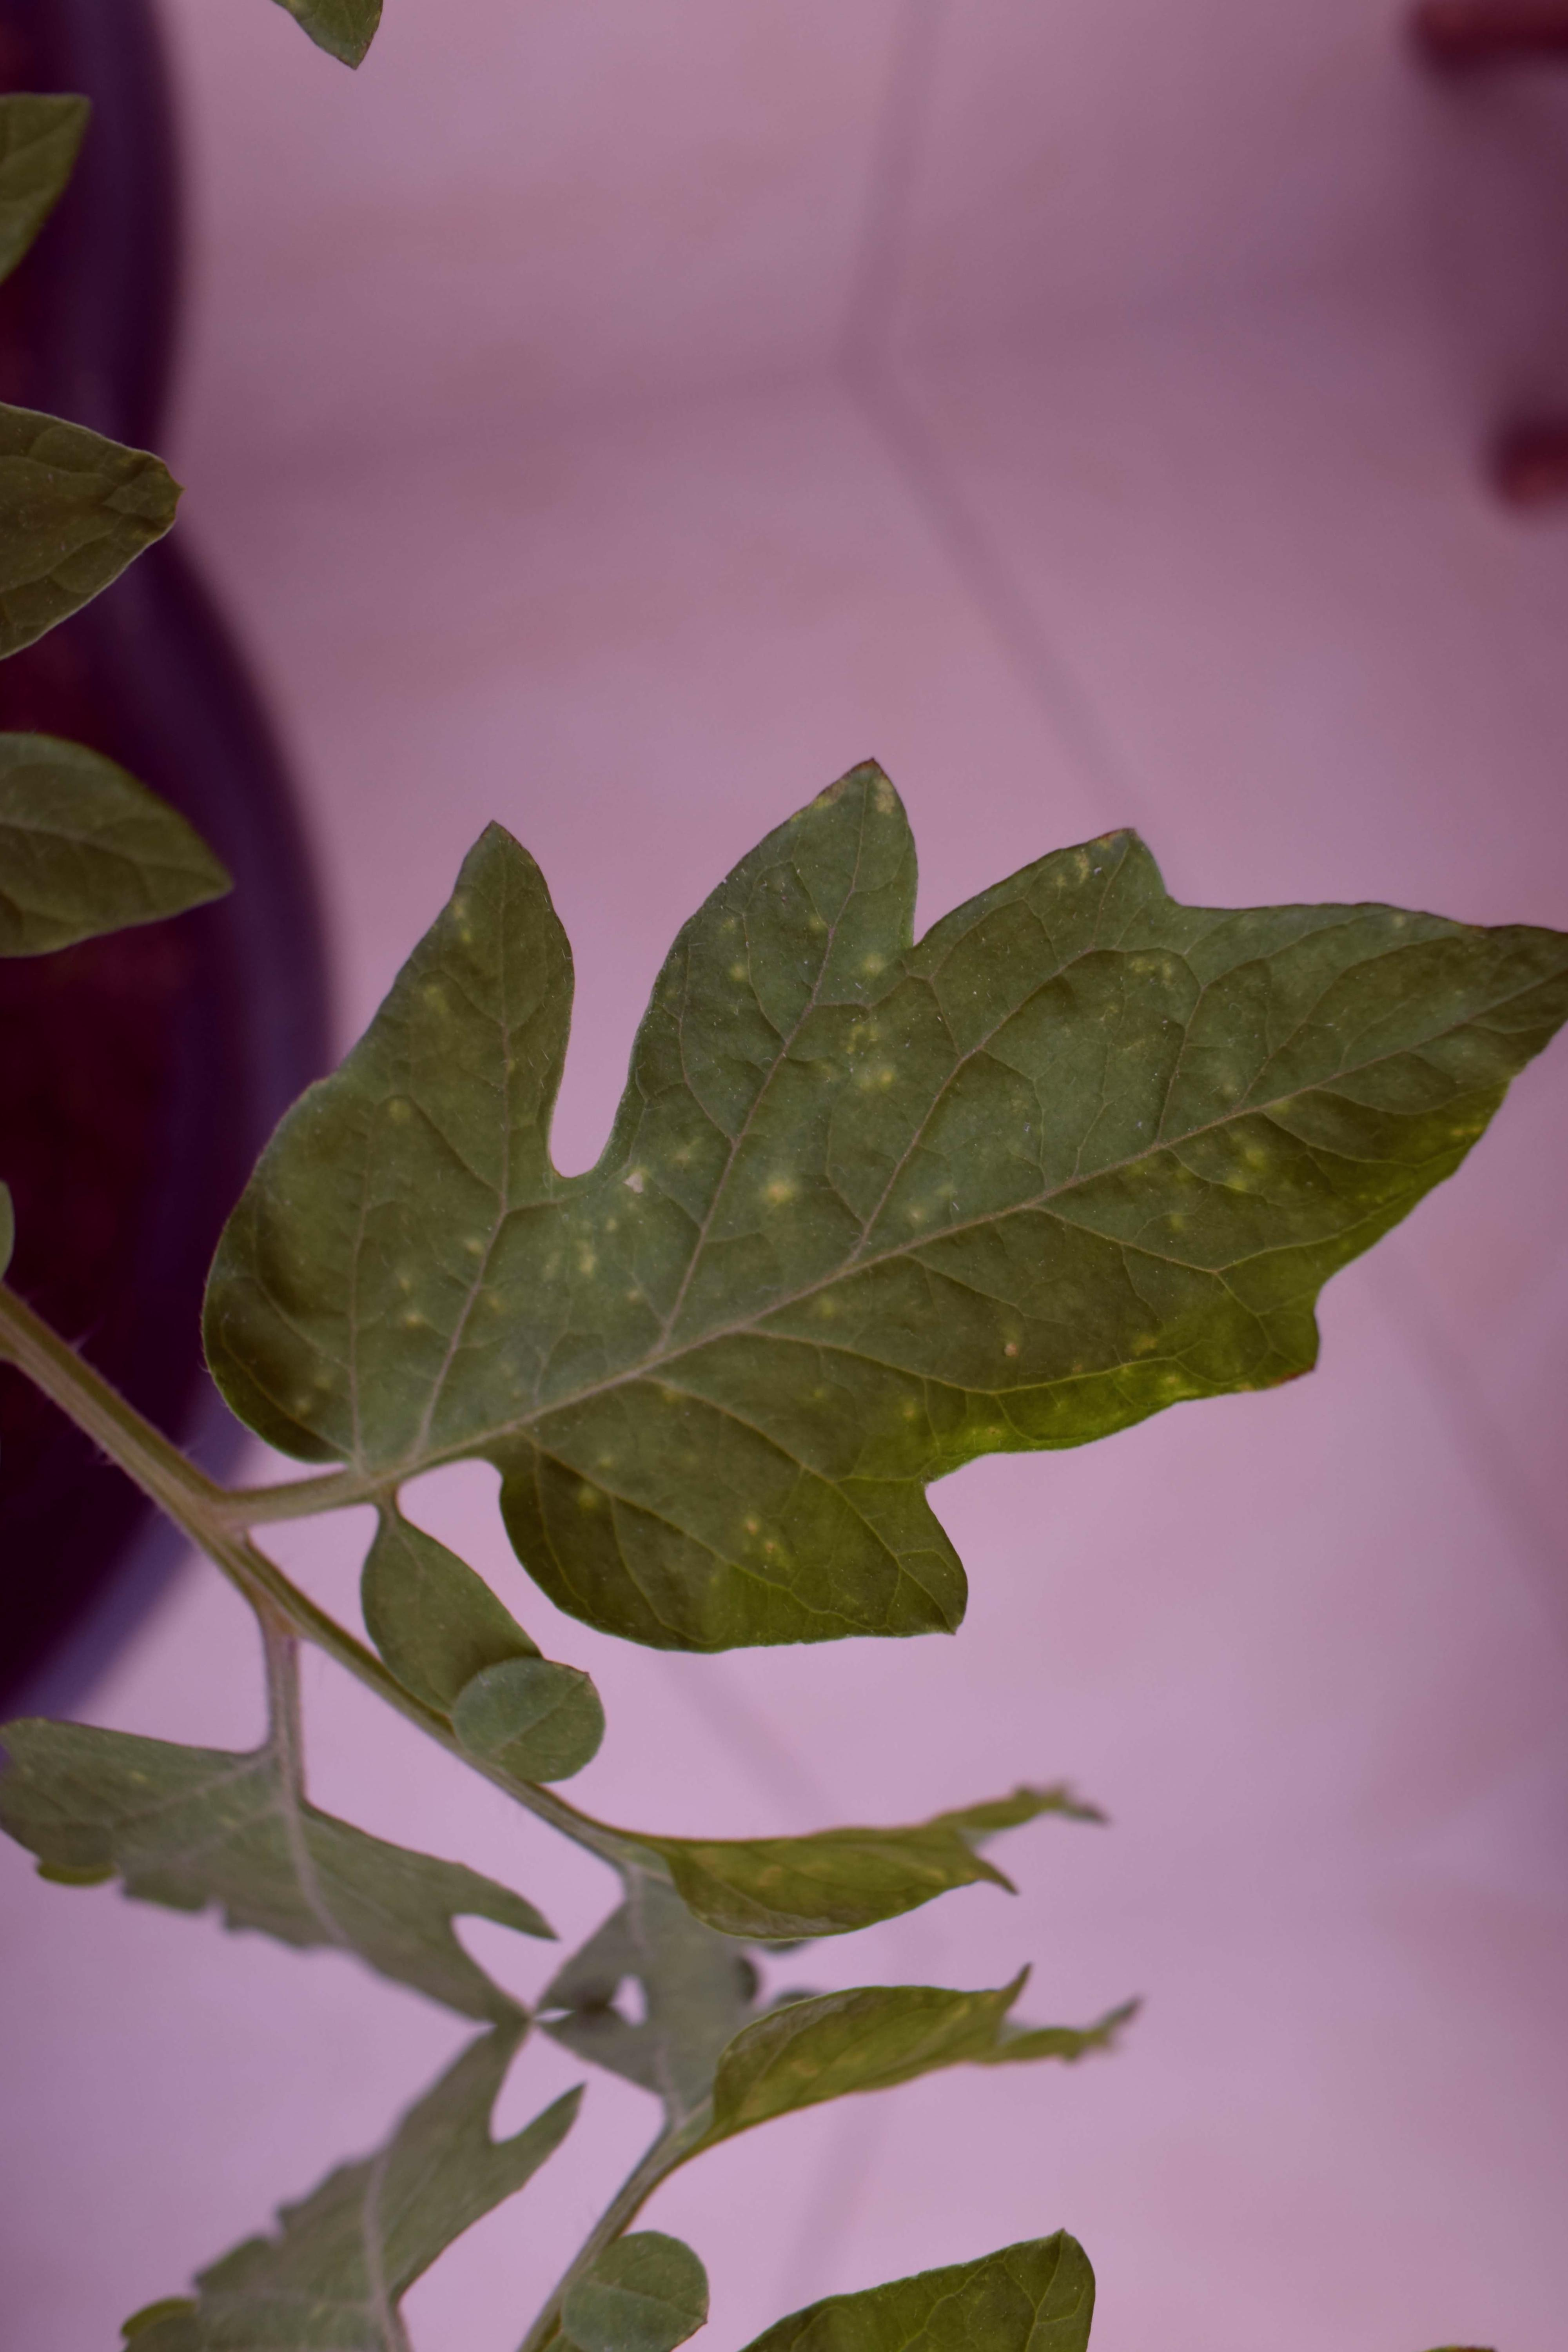Tomato mold leaf: (124, 592, 1568, 1768)
